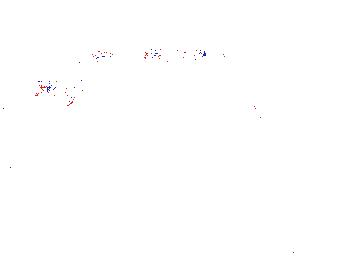red belly glassfish: (74, 50, 116, 67)
redtail glassfish: (33, 68, 106, 101), (142, 43, 207, 65)
